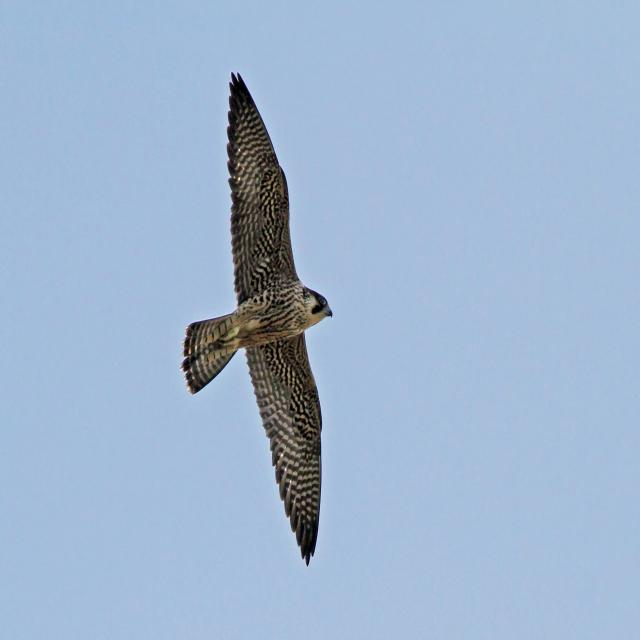birds: (182, 73, 333, 568)
